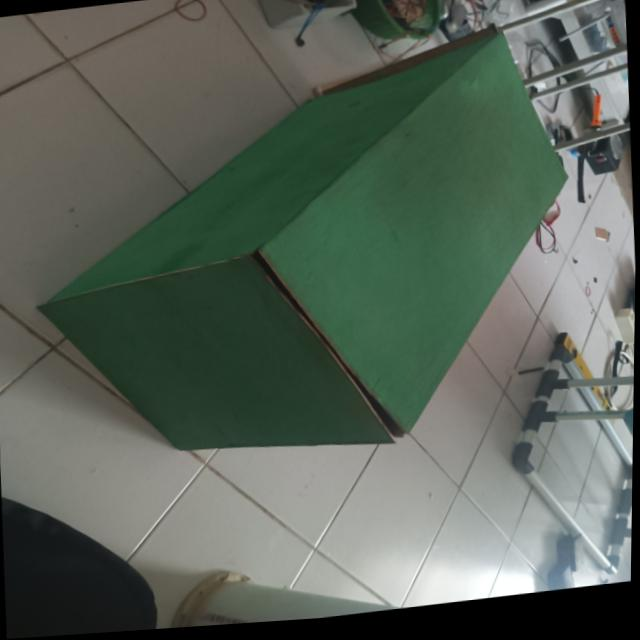green_box: (27, 25, 590, 480)
